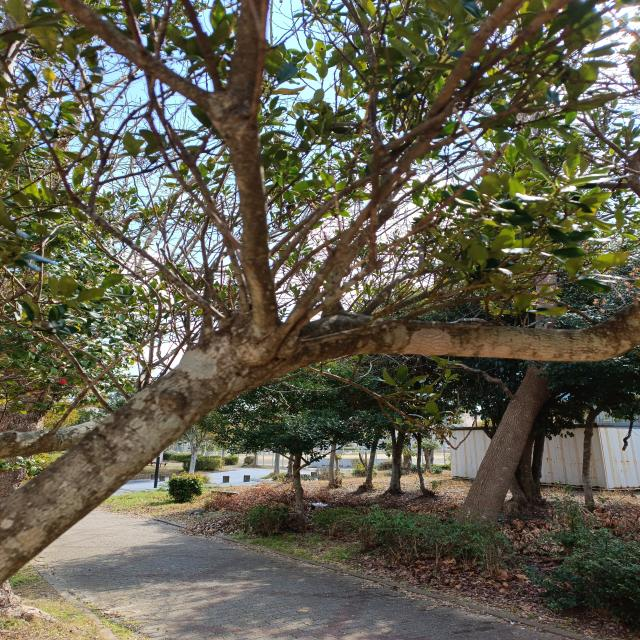Branch: (0, 299, 639, 581)
Twig: (3, 58, 227, 321), (269, 124, 437, 346), (53, 0, 222, 113), (269, 163, 395, 275), (144, 108, 241, 251), (147, 75, 225, 220), (300, 208, 384, 326), (324, 199, 397, 314), (398, 290, 599, 322), (364, 244, 426, 314), (276, 232, 340, 291), (268, 214, 310, 258), (379, 291, 437, 316)
